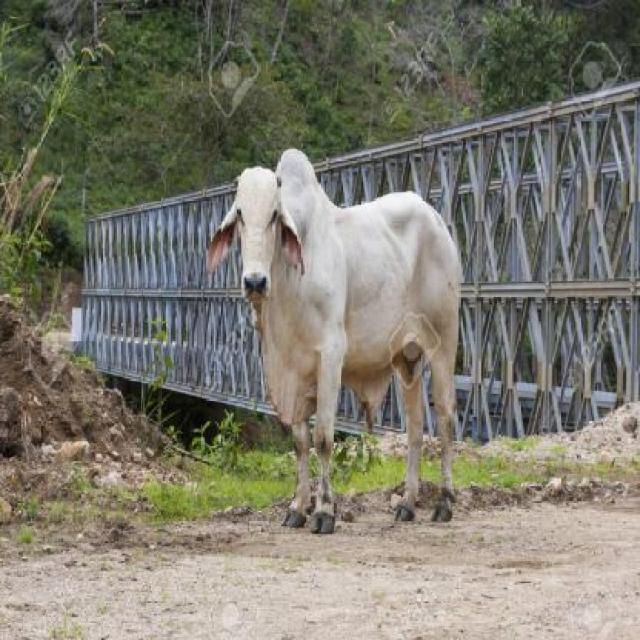Cow: (217, 148, 472, 532)
